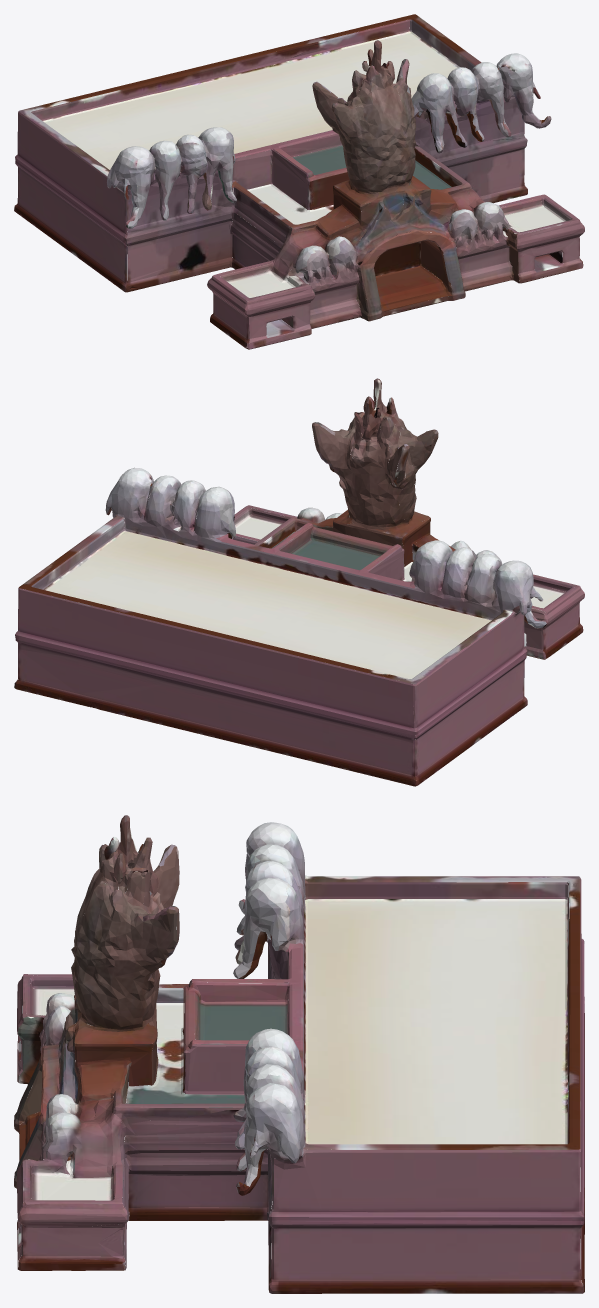
The model's file is 03_goddess_hall.glb.
3 views of the same model, one above another, from view 1: azimuth 30°, elevation 25°; view 2: azimuth 150°, elevation 25°; view 3: azimuth 270°, elevation 25° (orthographic). The views are drawn at different scales.
Visible parts, largest first — view 1: 03_goddess_hall.ply; view 2: 03_goddess_hall.ply; view 3: 03_goddess_hall.ply.
Boxes of the visible parts, x1,y1,x2,y2 form: 03_goddess_hall.ply: [14, 14, 584, 349]; 03_goddess_hall.ply: [14, 378, 584, 786]; 03_goddess_hall.ply: [14, 815, 584, 1293].
Size of the model in its own units: 1 by 0.5431 by 0.8259.
1 material, 1 textured.
